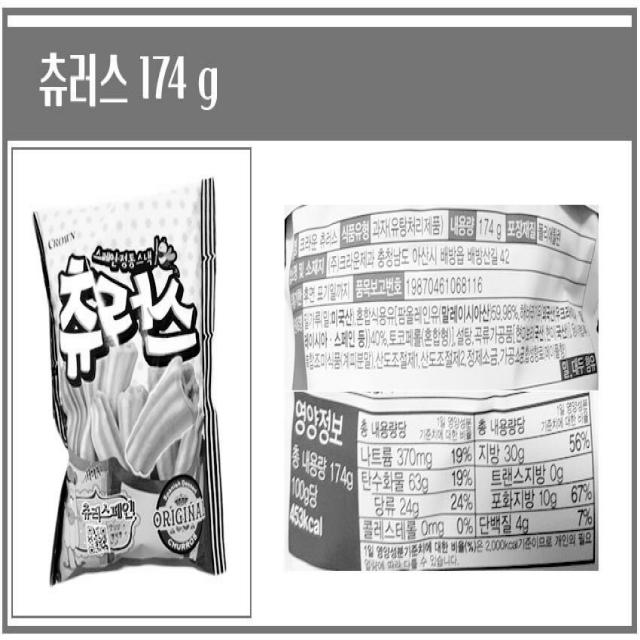Nutrition Label: (283, 390, 601, 580)
